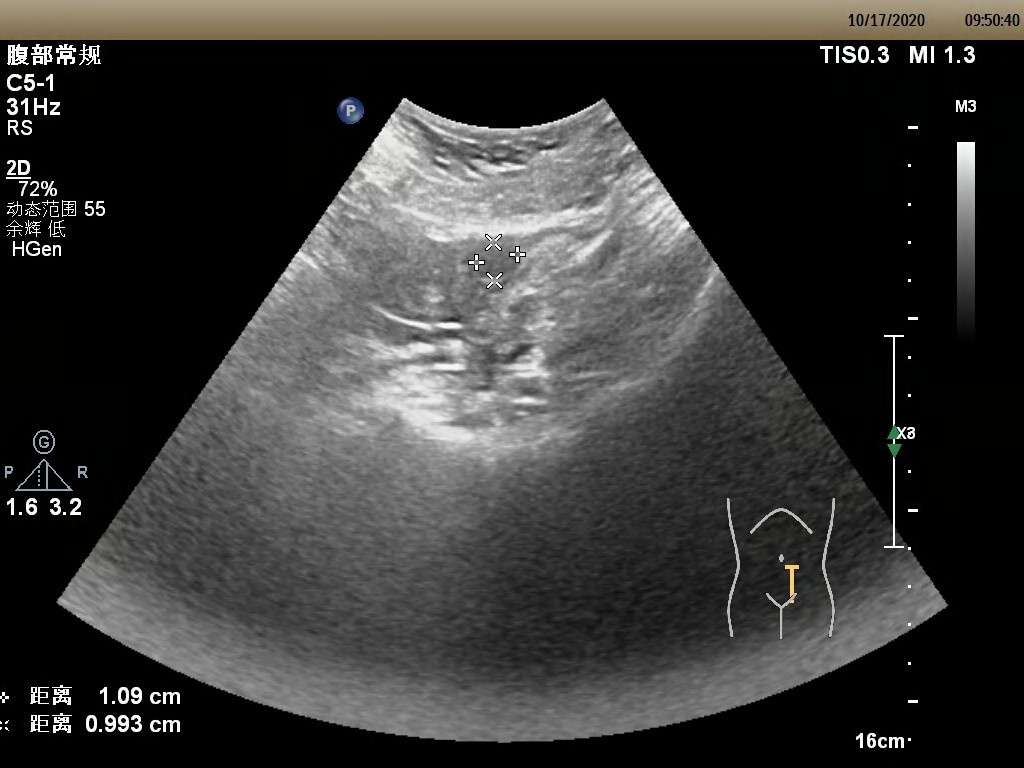肌瘤: (476, 242, 519, 282)
